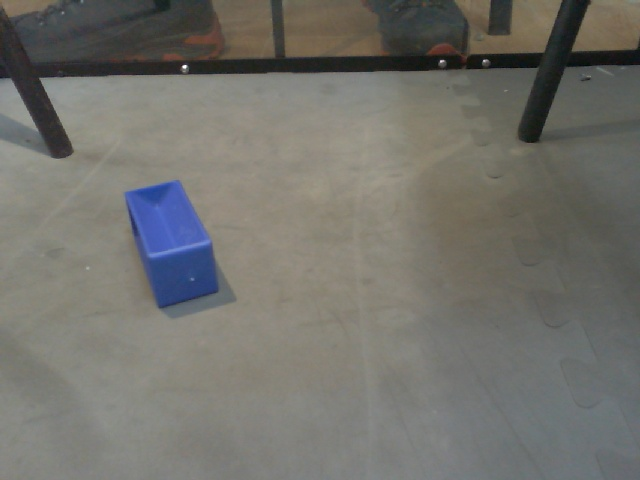BlueSample: (119, 175, 221, 311)
